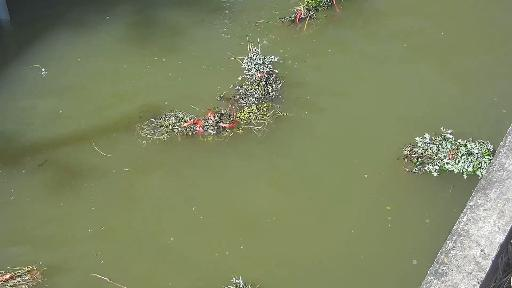twig: (128, 97, 290, 149), (393, 127, 498, 178), (91, 268, 288, 288), (222, 48, 290, 93), (276, 0, 342, 38), (0, 254, 52, 288)
